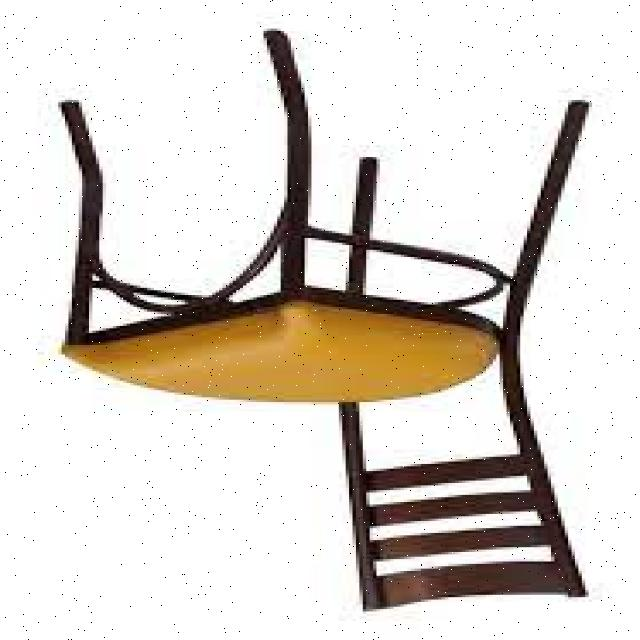bottle: (56, 28, 596, 614)
